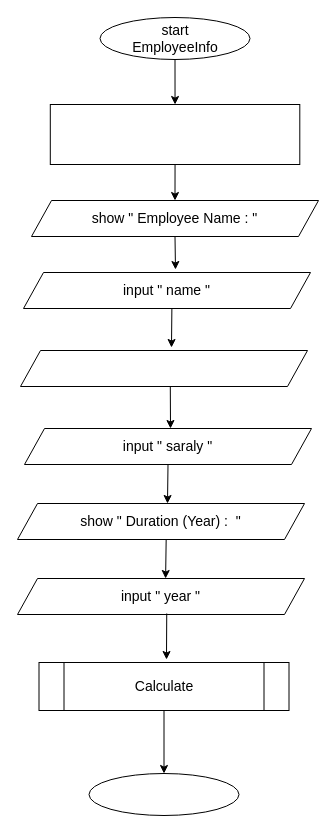
The diagram is 336 pixels wide and 833 high, and some of its shapes have lost their labels. The box of each missing label's shape, as (x1, y1, x2, y2) in pixels:
count + 1: (49, 104, 300, 164)
show " Salary (Bath/Month) : ": (20, 350, 308, 386)
stop EmployeeInfo: (88, 772, 239, 816)
